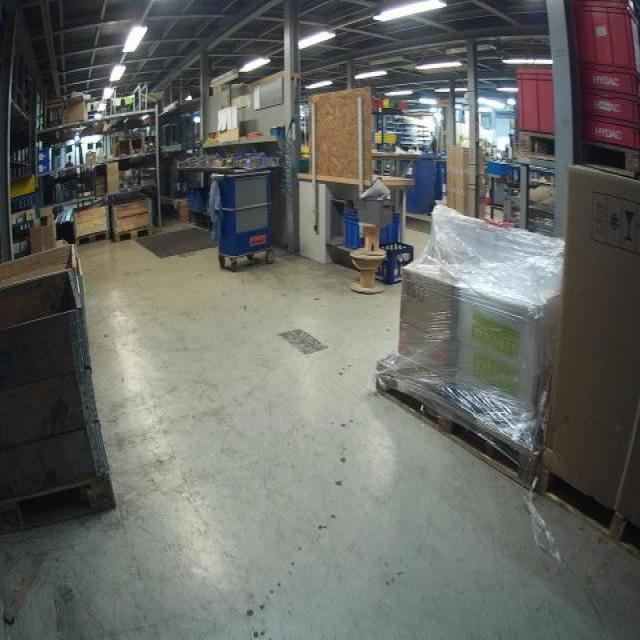pallet: (375, 353, 540, 495), (540, 461, 640, 562), (0, 470, 118, 538), (517, 126, 639, 181), (114, 224, 153, 245), (76, 227, 110, 248)
